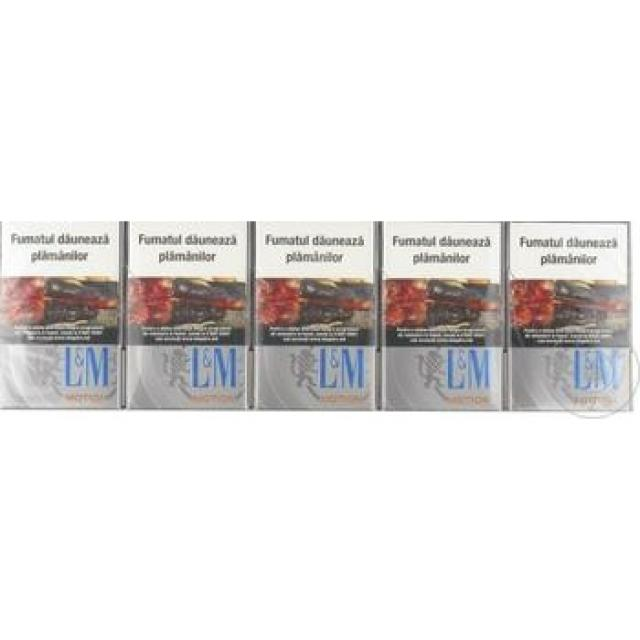lm: (504, 216, 636, 407), (125, 216, 255, 409), (2, 216, 127, 409), (378, 216, 503, 409), (255, 216, 377, 409)
